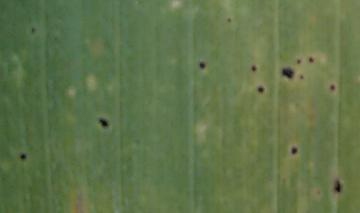tarspot: (97, 117, 109, 128), (282, 66, 292, 79), (334, 179, 342, 193), (197, 60, 207, 70), (290, 146, 299, 155), (19, 152, 27, 161), (251, 64, 258, 73), (257, 86, 265, 93), (329, 83, 336, 91), (30, 27, 37, 34), (308, 56, 315, 63), (295, 57, 301, 65), (227, 16, 232, 23), (299, 74, 304, 80)
